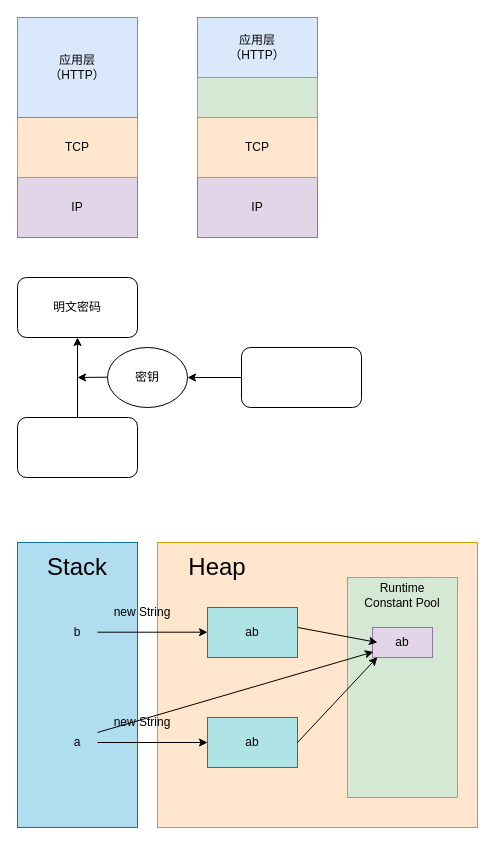
The diagram is 495 pixels wide and 845 high, and some of its shapes have lost their labels. The centre of each missing label's shape, as x and y in pixels:
SSL: point 257,97
对称加密: point 77,447
非对称加密: point 301,377
